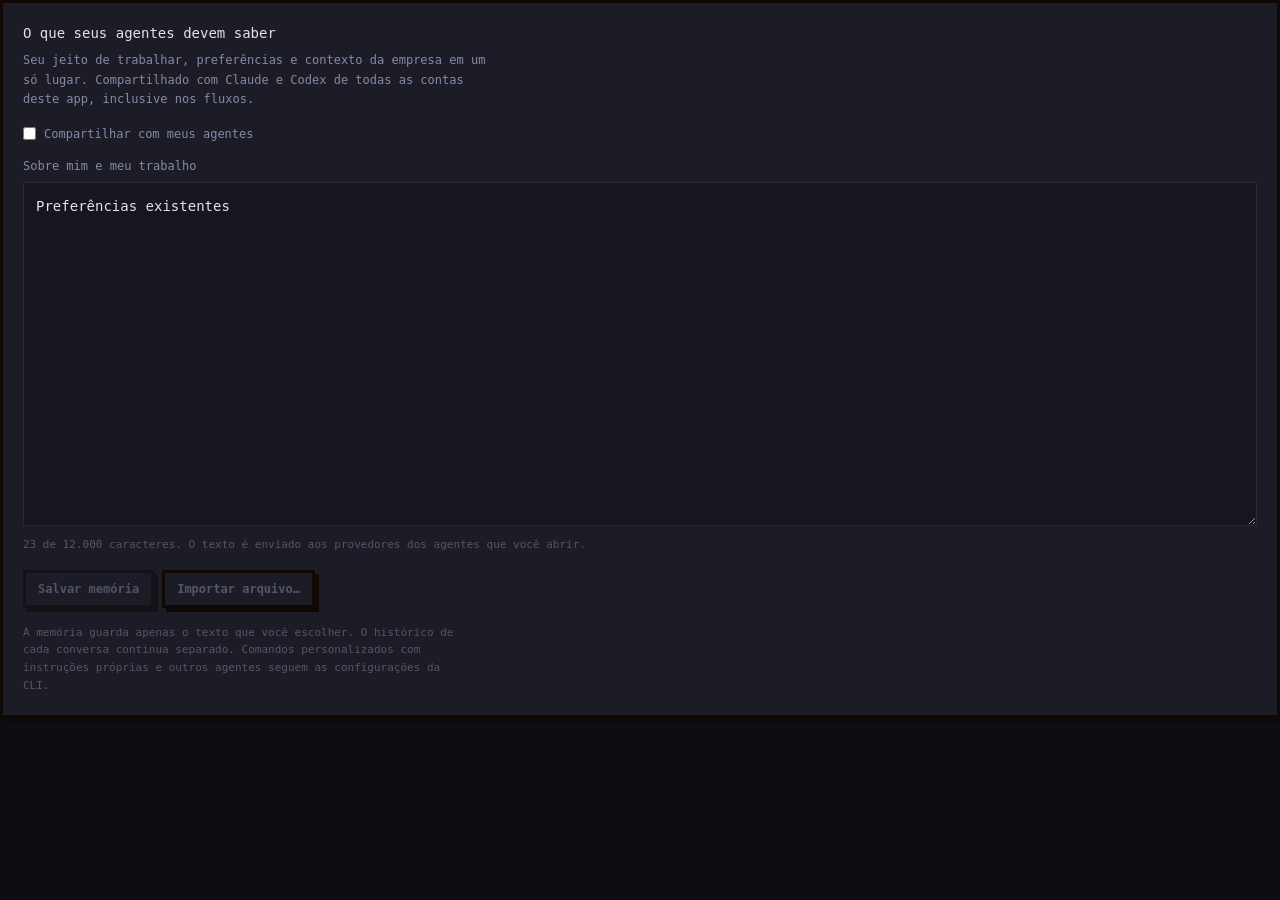
Test: mantém o texto editado quando falha ao salvar, permitindo tentar de novo
Replace the text in the text box labelled "Sobre mim e meu trabalho" with "Texto a preservar" at (640, 354), box [23,182,1257,526]
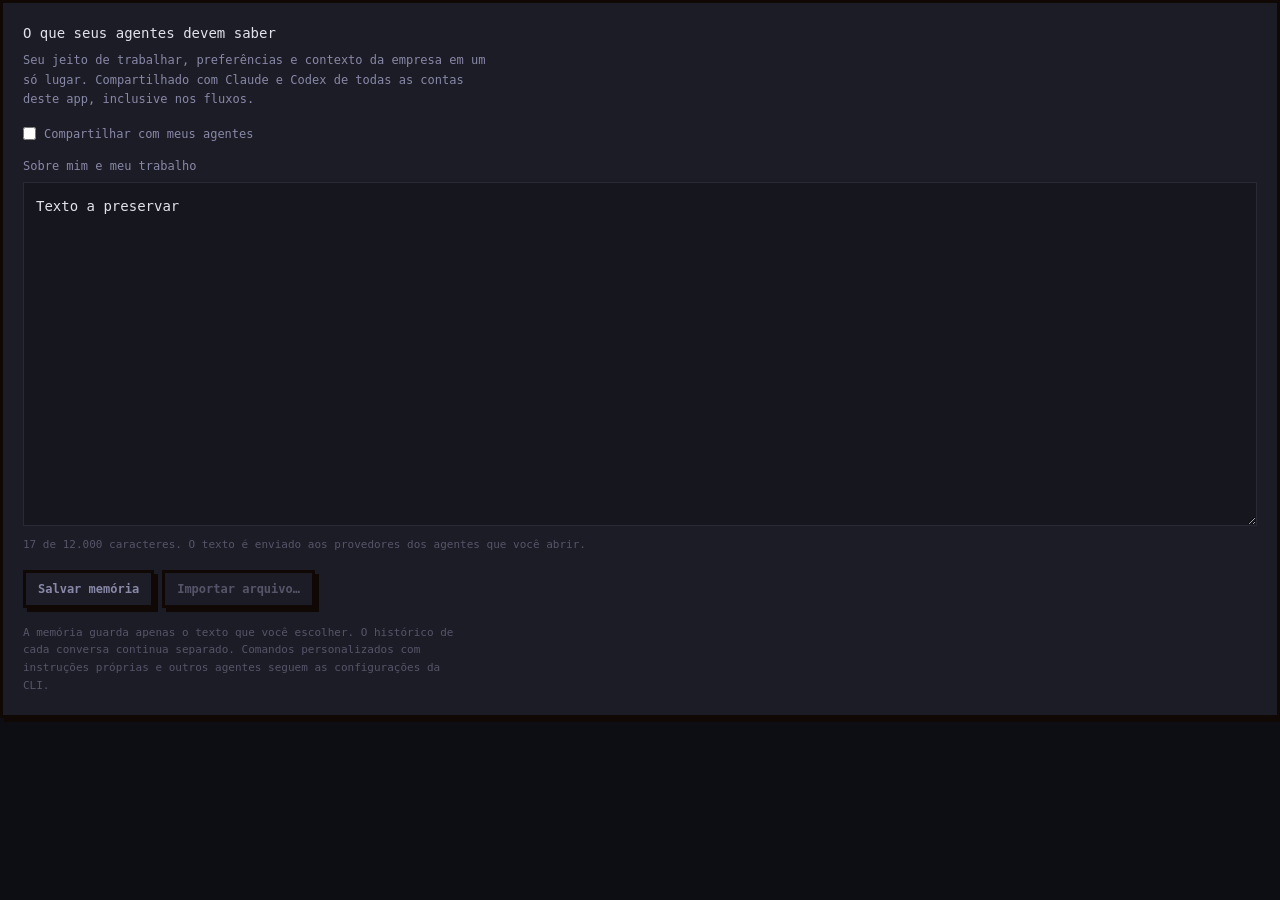
Click the button "Salvar memória" at (89, 588), box [23,570,154,608]
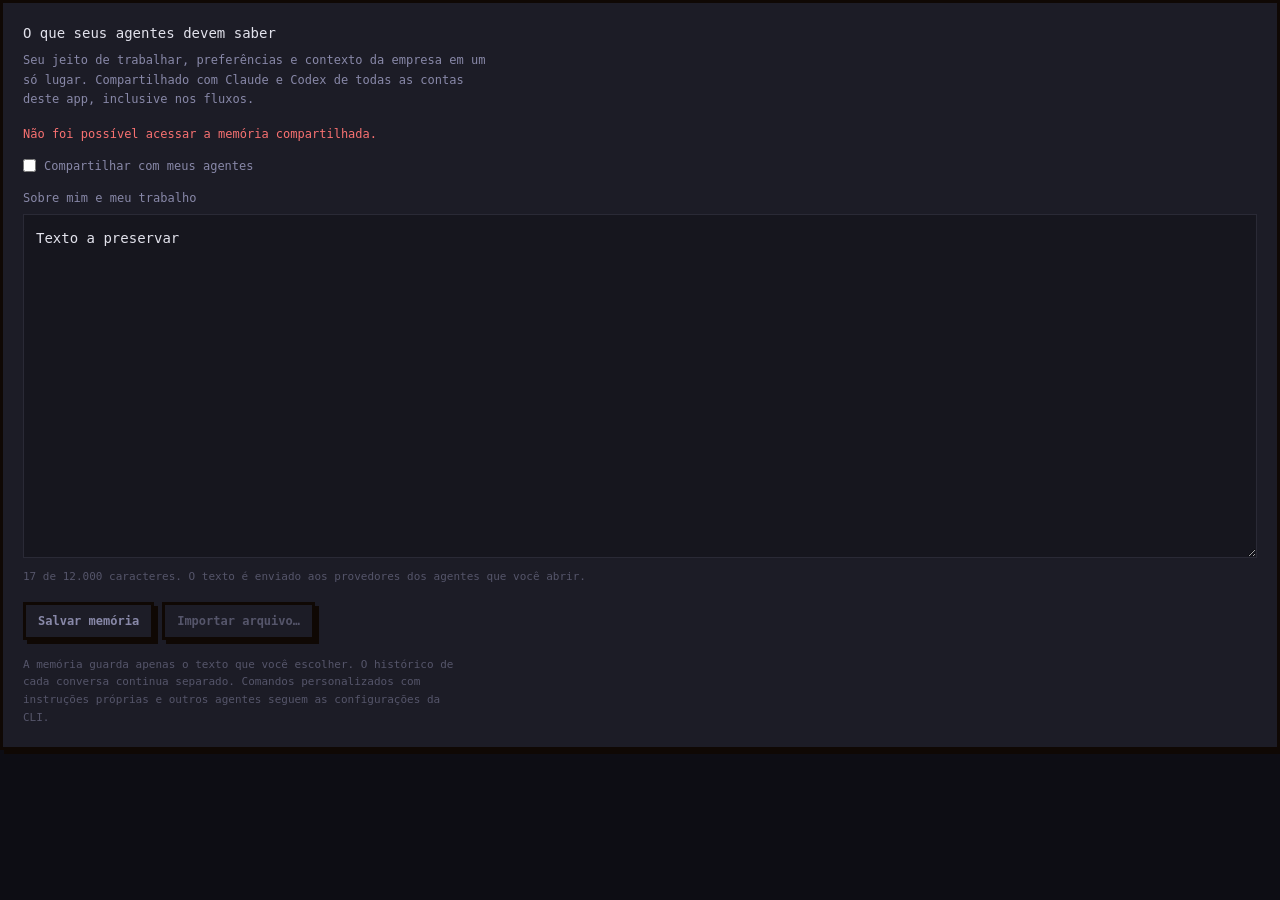
Expected: the button "Salvar memória" is enabled, [23,602,154,640]
Expected: the message "Não foi possível acessar a memória compartilhada." is shown, [23,126,377,140]
